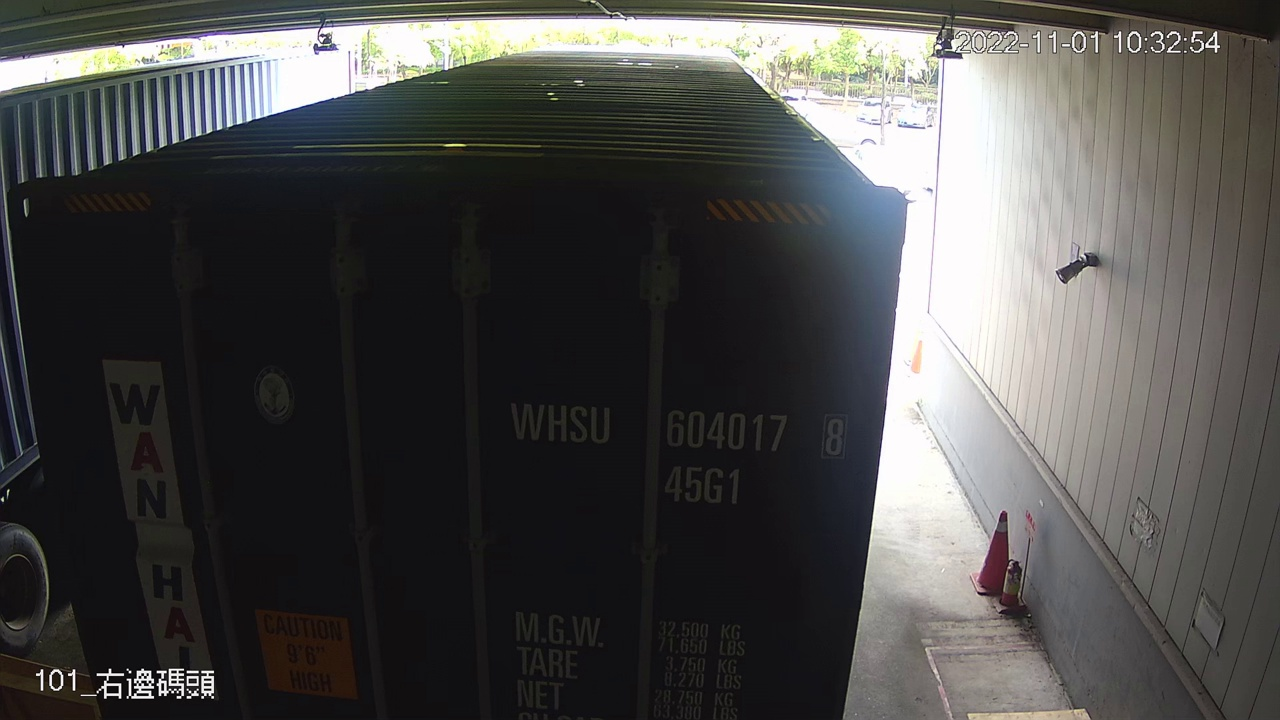container: (502, 385, 856, 514)
